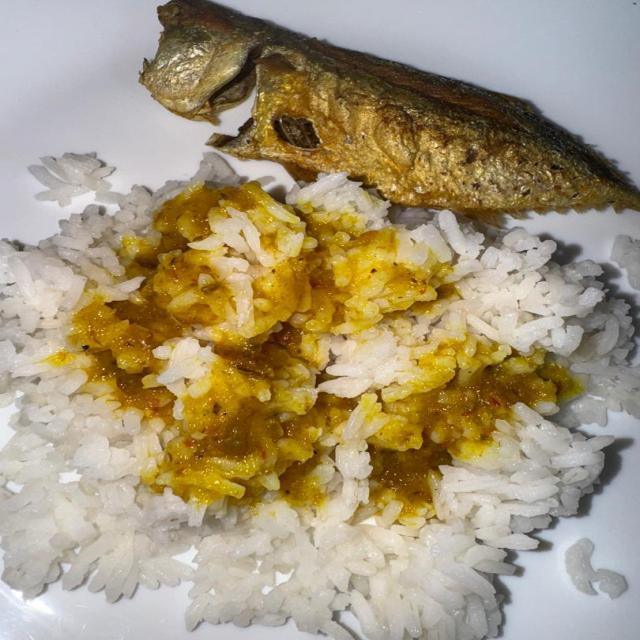Fish: (137, 0, 639, 224)
Plate: (221, 0, 639, 179)
Rice: (0, 152, 639, 639)
